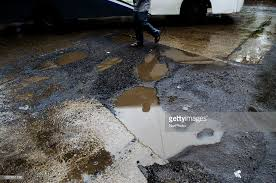potholes: (19, 39, 256, 177)
